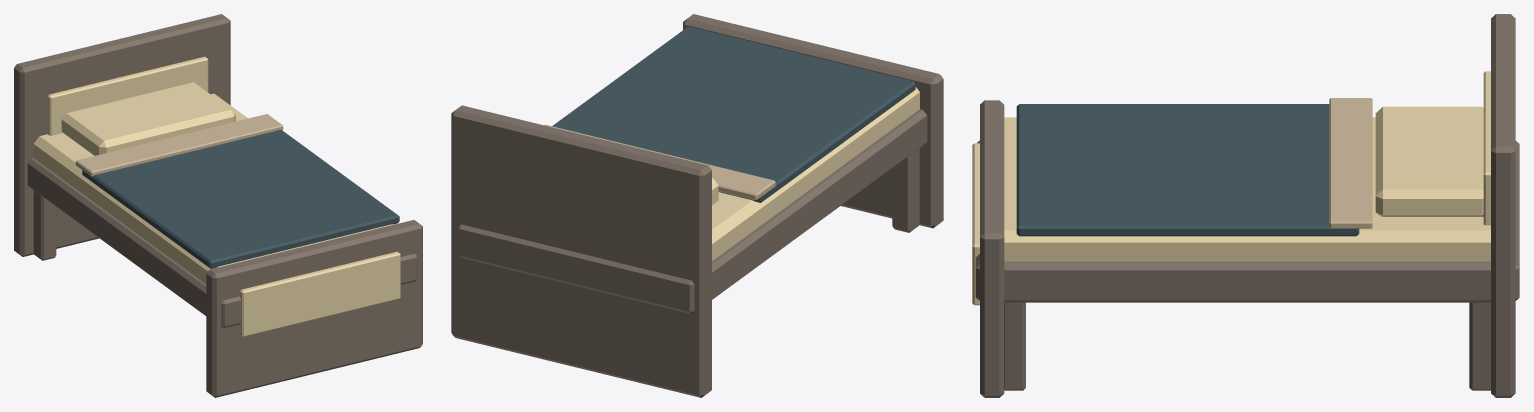
The model's file is medical_bed.glb.
3 renders of one model, left to right at view 1: azimuth 30°, elevation 25°; view 2: azimuth 150°, elevation 25°; view 3: azimuth 270°, elevation 25°, orthographic. The views are drawn at different scales.
Parts seen in each view (by area): view 1: Blanket, HeadFoot_001, HeadFoot, Inset_001, Pillow, Frame, Mattress, Inset, Fold, Leg_001; view 2: HeadFoot, Blanket, Frame, HeadFoot_001, Mattress, Leg, Fold; view 3: Blanket, Frame, Mattress, Pillow, HeadFoot, HeadFoot_001, Fold, Leg_002, Leg_003, Inset, Inset_001.
Part boxes in pixels (<box>): Blanket: <box>82,129,399,268</box>; HeadFoot_001: <box>206,220,422,397</box>; HeadFoot: <box>14,14,230,256</box>; Inset_001: <box>240,251,400,336</box>; Pillow: <box>61,82,235,155</box>; Frame: <box>27,158,417,327</box>; Mattress: <box>33,93,392,283</box>; Inset: <box>47,56,208,135</box>; Fold: <box>75,114,283,176</box>; Leg_001: <box>33,190,56,260</box>; HeadFoot: <box>451,105,711,397</box>; Blanket: <box>552,26,915,202</box>; Frame: <box>457,109,927,313</box>; HeadFoot_001: <box>683,14,943,228</box>; Mattress: <box>712,87,919,260</box>; Leg: <box>892,148,919,232</box>; Fold: <box>544,124,775,200</box>; Blanket: <box>1016,104,1359,236</box>; Frame: <box>975,140,1519,302</box>; Mattress: <box>1004,117,1490,261</box>; Pillow: <box>1375,106,1483,216</box>; HeadFoot: <box>1491,14,1515,397</box>; HeadFoot_001: <box>980,100,1004,397</box>; Fold: <box>1329,98,1372,228</box>; Leg_002: <box>1004,302,1025,390</box>; Leg_003: <box>1469,302,1490,390</box>; Inset: <box>1483,71,1490,225</box>; Inset_001: <box>972,143,979,305</box>.
Bounding box in the file's own units: 1.19 × 1.02 × 2.01.
